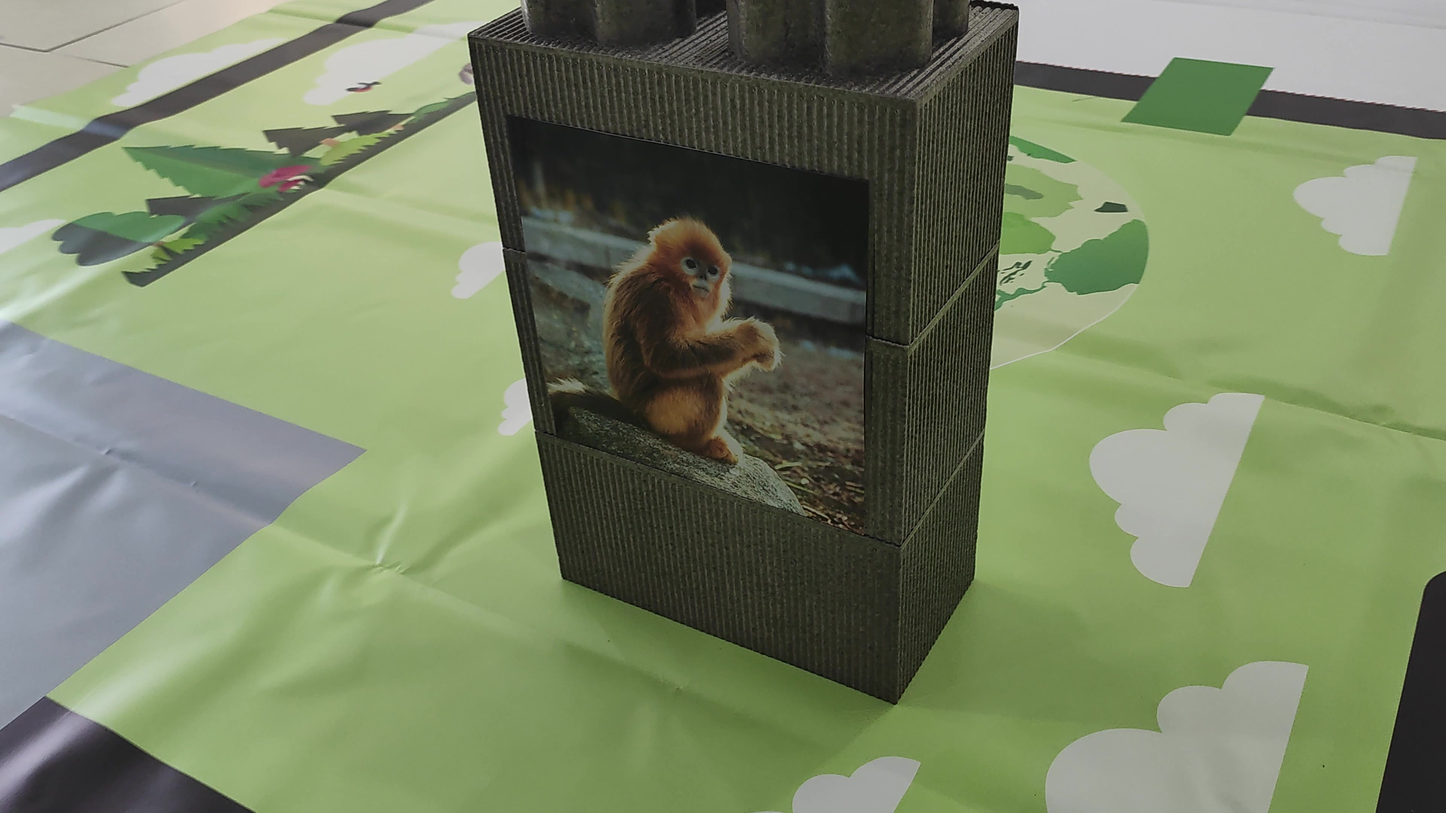monkey: (536, 183, 786, 485)
